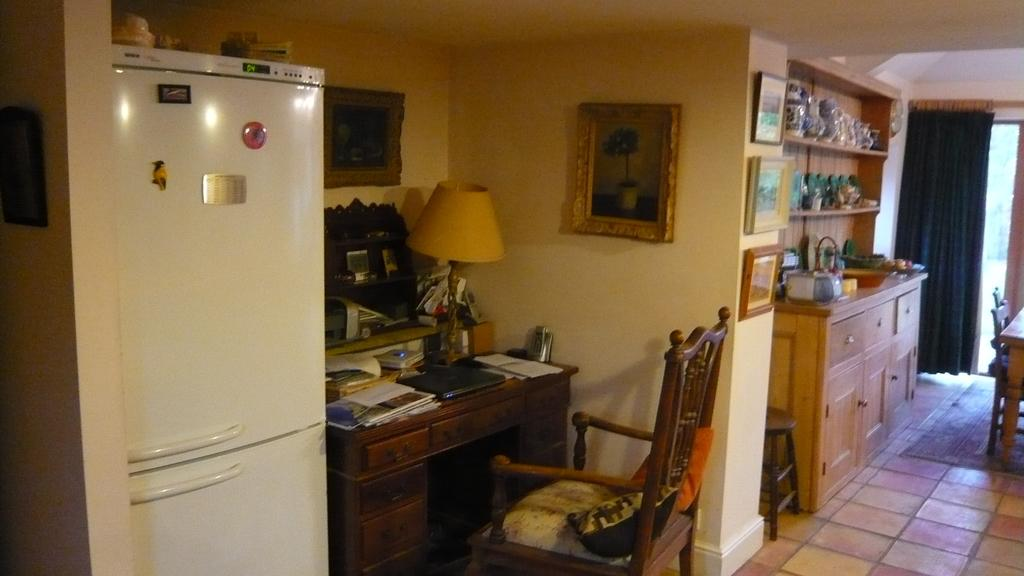cabinet_door: (828, 383, 862, 474), (428, 412, 522, 437), (362, 514, 426, 548), (368, 437, 429, 466), (888, 343, 916, 401), (864, 360, 882, 450), (368, 482, 430, 508), (832, 309, 888, 337), (522, 393, 580, 413), (530, 423, 562, 456), (896, 289, 918, 327)
handle: (137, 474, 244, 504), (370, 441, 420, 465), (122, 440, 246, 449), (380, 519, 410, 541), (382, 481, 406, 502)
